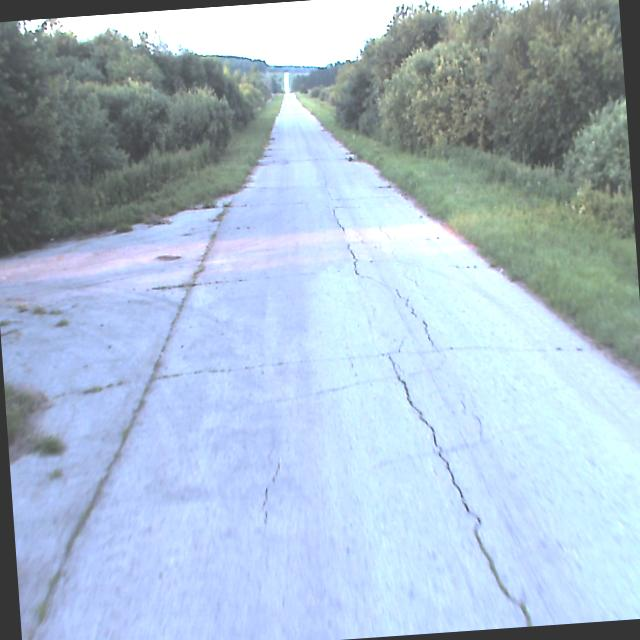road: (0, 72, 640, 640)
